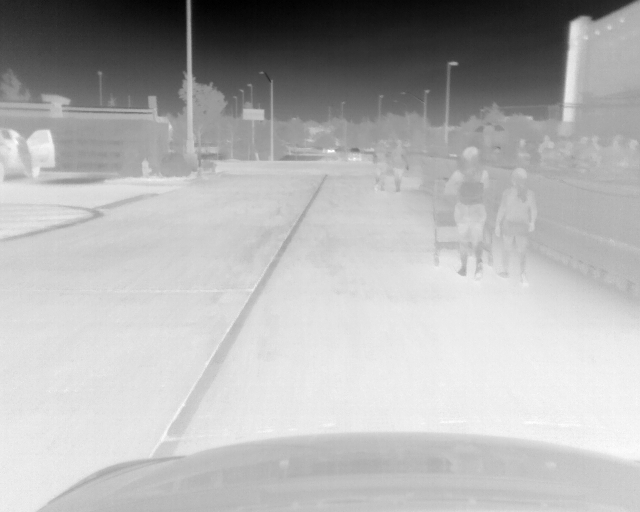car: (1, 129, 53, 179), (346, 147, 362, 163), (322, 146, 336, 154)
people: (444, 144, 489, 281), (493, 165, 535, 287), (387, 138, 409, 191), (371, 140, 389, 191), (563, 134, 588, 167), (602, 134, 625, 169), (15, 136, 34, 178), (585, 131, 604, 165), (536, 135, 557, 161), (623, 138, 640, 170), (516, 136, 529, 161)
